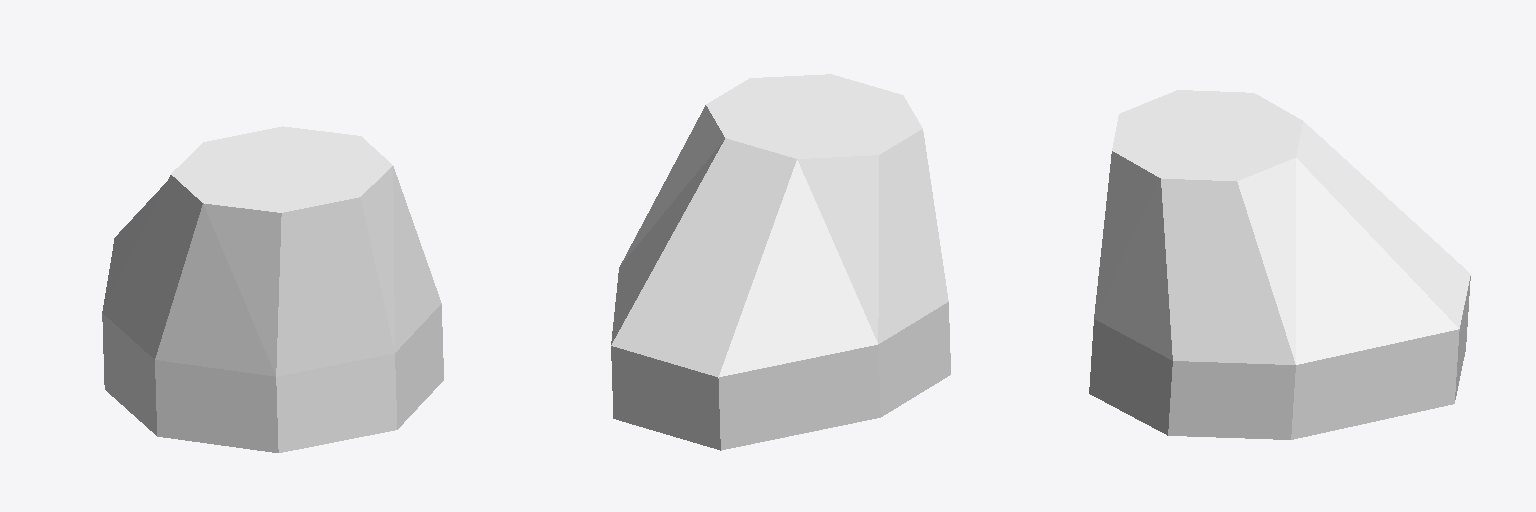
File: FootR.obj
3 views of the same model, side by side, from view 1: azimuth 30°, elevation 25°; view 2: azimuth 150°, elevation 25°; view 3: azimuth 270°, elevation 25° (orthographic).
Visible parts, largest first — view 1: Footr1; view 2: Footr1; view 3: Footr1.
Boxes of the visible parts, x1=… form: Footr1: x1=102, y1=126, x2=443, y2=452; Footr1: x1=611, y1=74, x2=950, y2=450; Footr1: x1=1089, y1=90, x2=1470, y2=439.
Bounding box in the file's own units: 1.29 × 1.01 × 1.51.